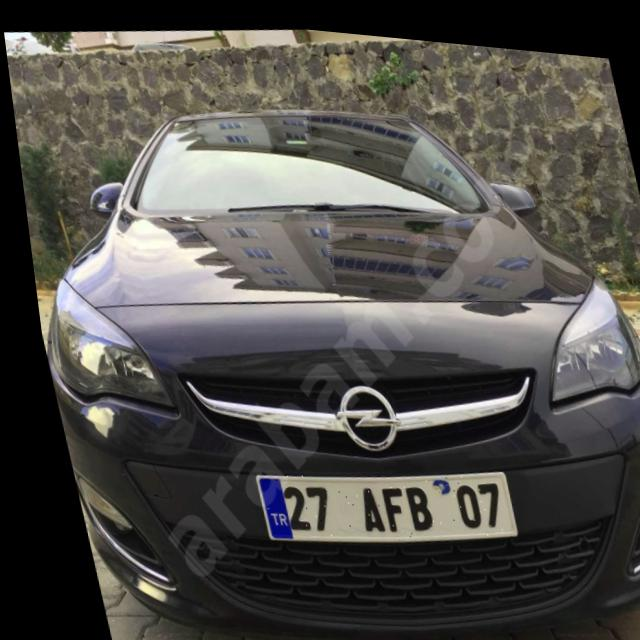license_plate: (239, 442, 509, 557)
